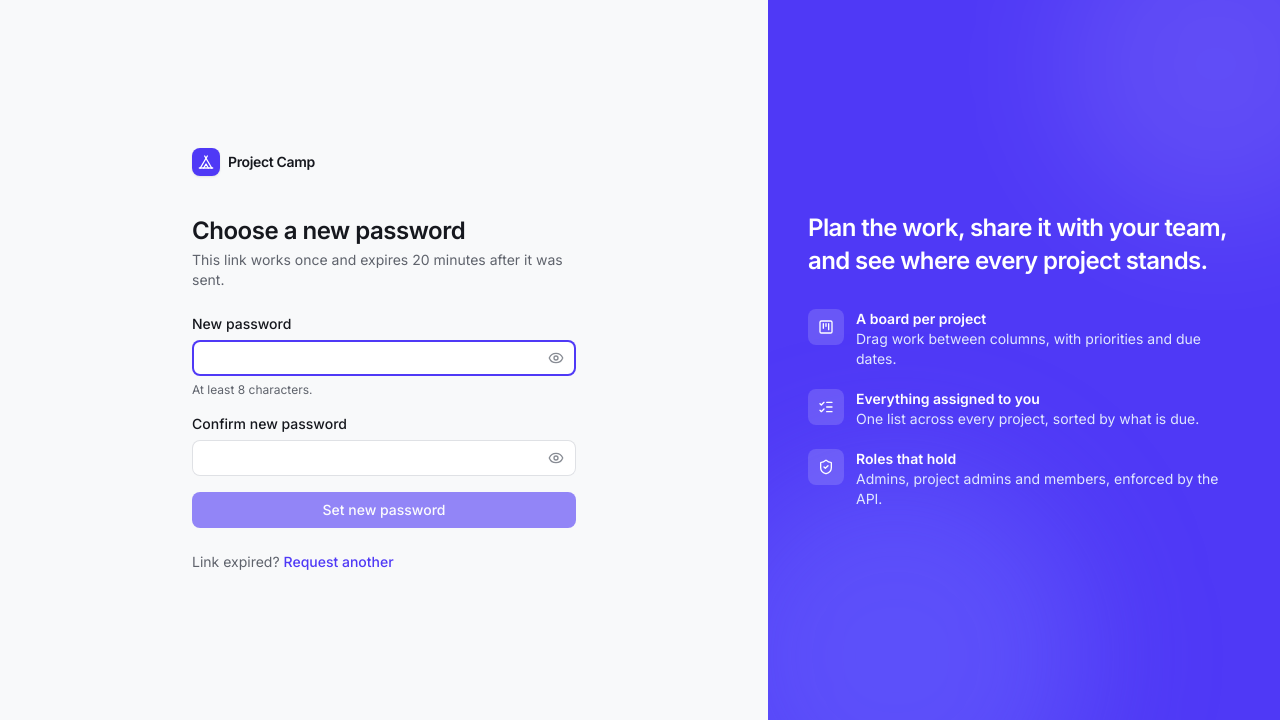
Test: ResetPassword › takes the token from the URL the email links to
In the password field labelled "New password": (384, 358) x1=192 y1=340 x2=576 y2=376, type "N3wPassw0rd!"
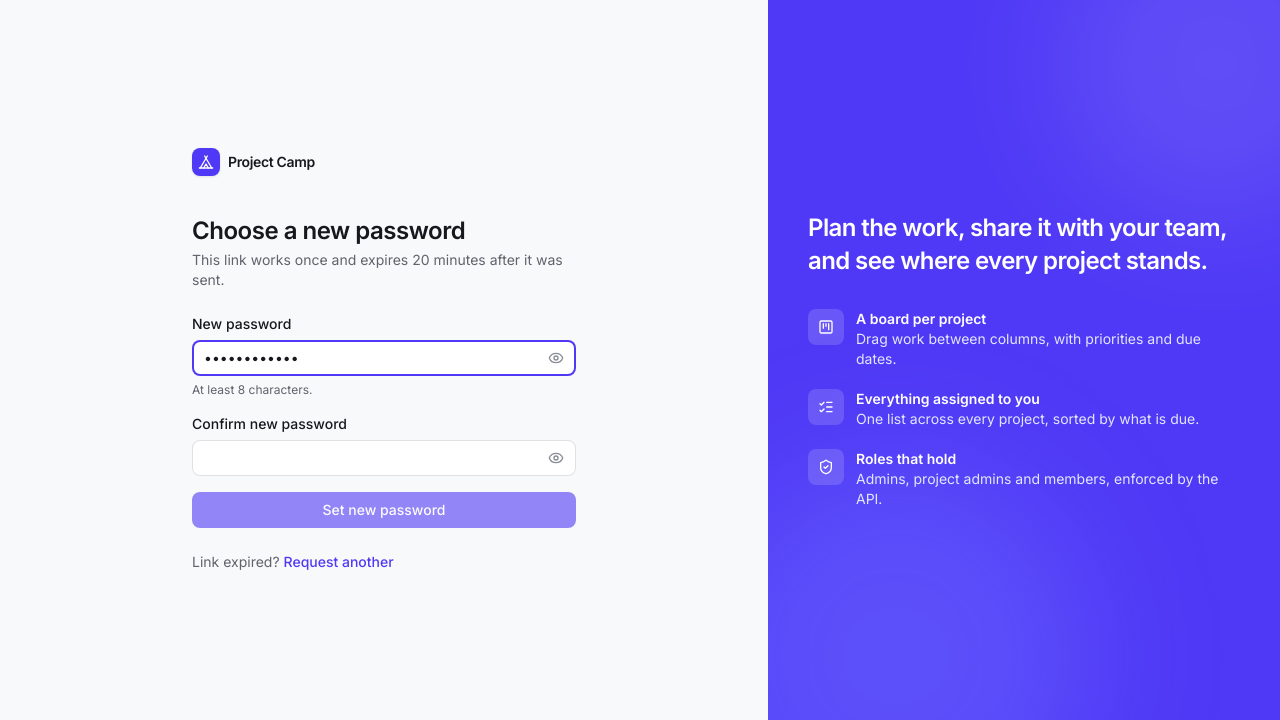
In the password field labelled "Confirm new password": (384, 458) x1=192 y1=440 x2=576 y2=476, type "N3wPassw0rd!"
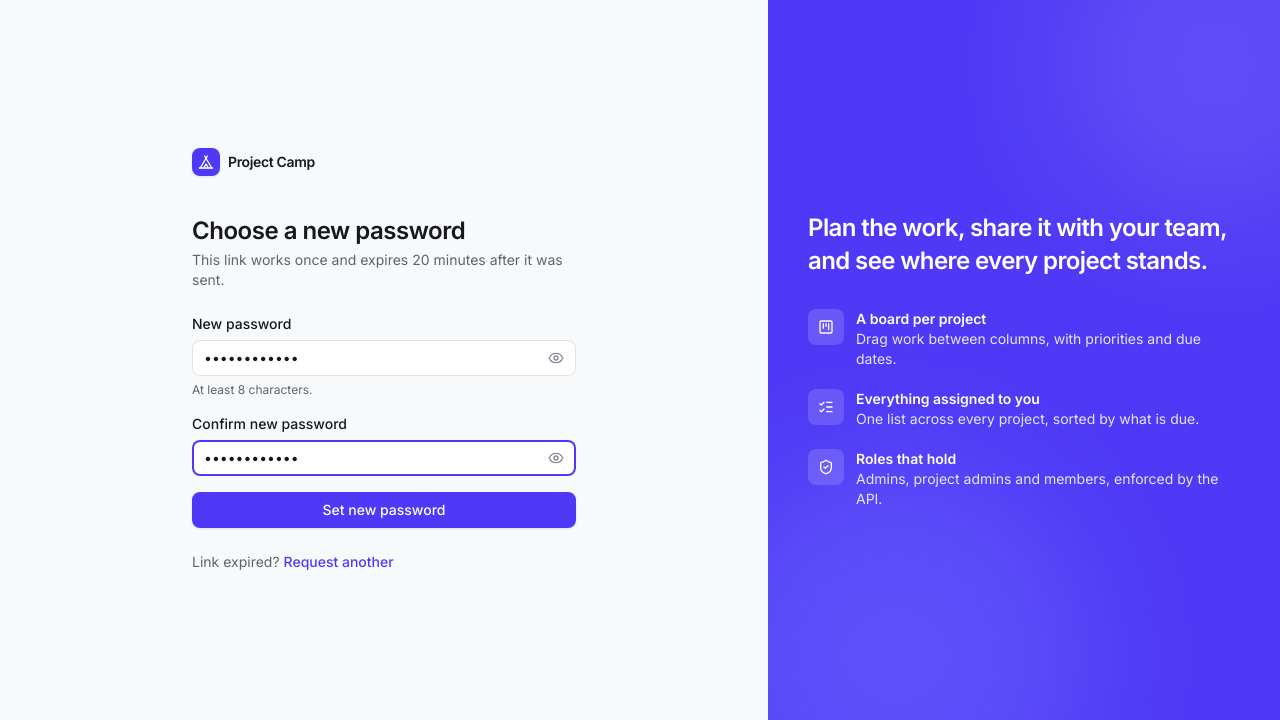
Click the button "Set new password": (384, 510) x1=192 y1=492 x2=576 y2=528
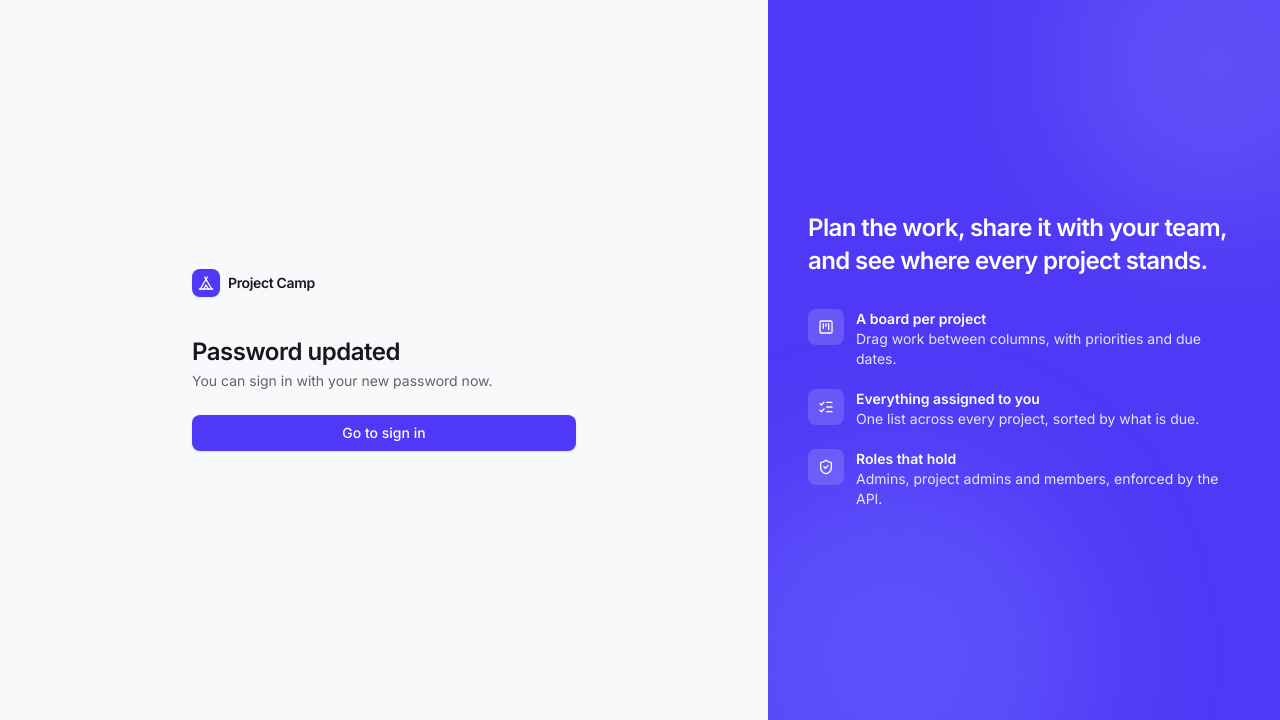
Expected: the heading "Password updated" is shown, x1=192 y1=337 x2=400 y2=366
